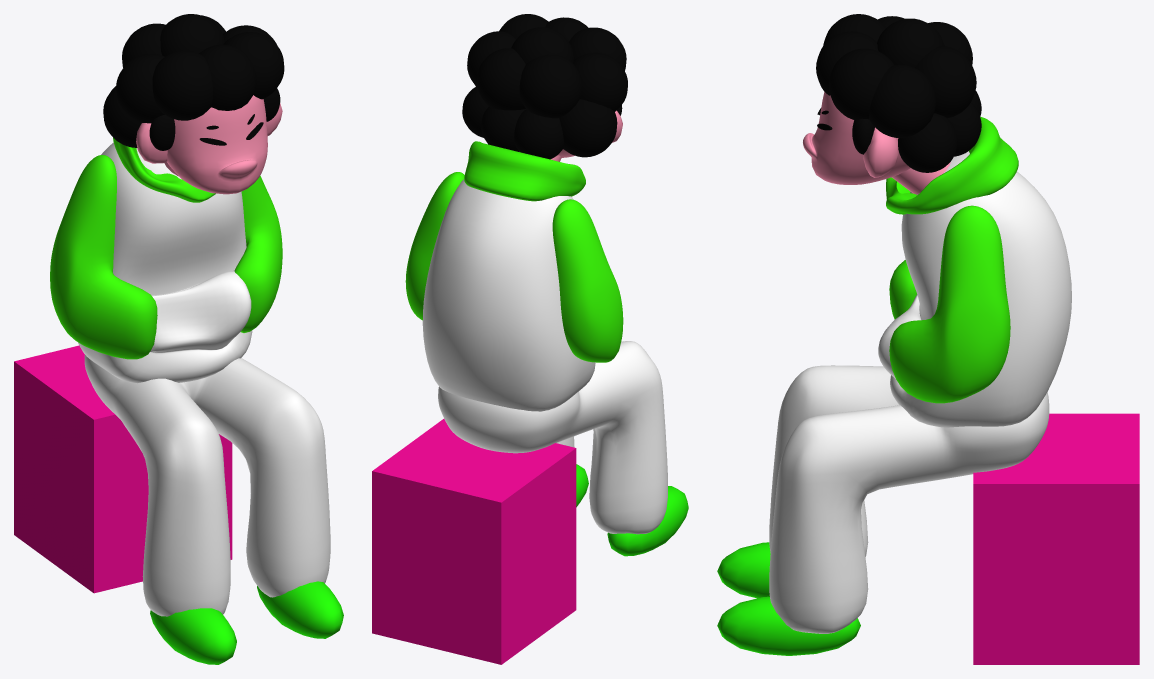
The picture shows the model from 3 angles, left to right: view 1: azimuth 30°, elevation 25°; view 2: azimuth 150°, elevation 25°; view 3: azimuth 270°, elevation 25°; orthographic projection. The views are drawn at different scales.
Parts seen in each view (by area): view 1: pCube10, pCube9, pCube7, pCube11, hair, pCube1, pCube13, pCube12, pCube8; view 2: pCube9, pCube7, pCube10, hair, pCube11, pCube8, pCube13; view 3: pCube9, pCube10, pCube7, hair, pCube11, pCube1, pCube8, pCube12, pCube13.
Boxes of the visible parts, left/top/right/bottom form: pCube10: left=84, top=355, right=330, bottom=616; pCube9: left=14, top=345, right=232, bottom=593; pCube7: left=78, top=142, right=252, bottom=383; pCube11: left=50, top=155, right=282, bottom=359; hair: left=103, top=14, right=284, bottom=150; pCube1: left=136, top=95, right=282, bottom=194; pCube13: left=150, top=608, right=236, bottom=664; pCube12: left=257, top=581, right=343, bottom=638; pCube8: left=113, top=137, right=215, bottom=202; pCube9: left=372, top=419, right=576, bottom=664; pCube7: left=422, top=179, right=595, bottom=411; pCube10: left=438, top=341, right=667, bottom=534; hair: left=462, top=14, right=627, bottom=159; pCube11: left=405, top=172, right=623, bottom=362; pCube8: left=464, top=141, right=585, bottom=201; pCube13: left=607, top=486, right=688, bottom=556; pCube9: left=973, top=413, right=1139, bottom=664; pCube10: left=769, top=365, right=1049, bottom=633; pCube7: left=878, top=151, right=1071, bottom=427; hair: left=816, top=14, right=981, bottom=172; pCube11: left=889, top=205, right=1010, bottom=403; pCube1: left=803, top=92, right=950, bottom=194; pCube8: left=886, top=117, right=1018, bottom=214; pCube12: left=717, top=596, right=860, bottom=655; pCube13: left=717, top=542, right=770, bottom=598.
Bounding box in the file's own units: 0.4732 × 1.21 × 0.7618.
